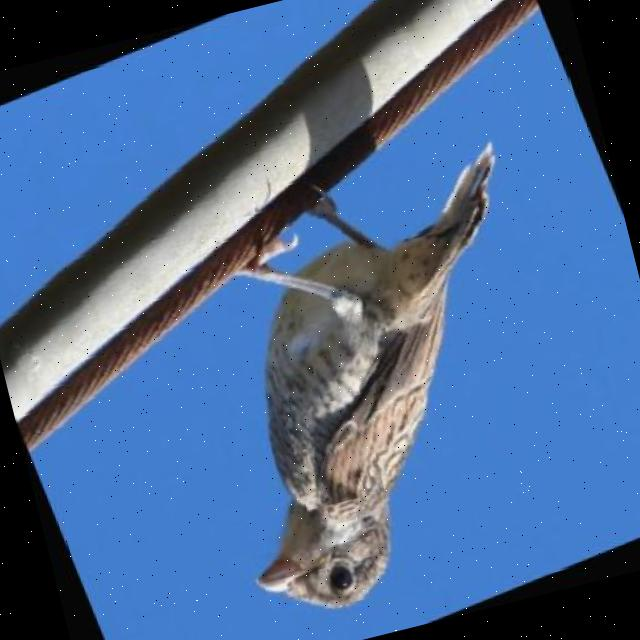sparrow: (93, 57, 640, 640)
